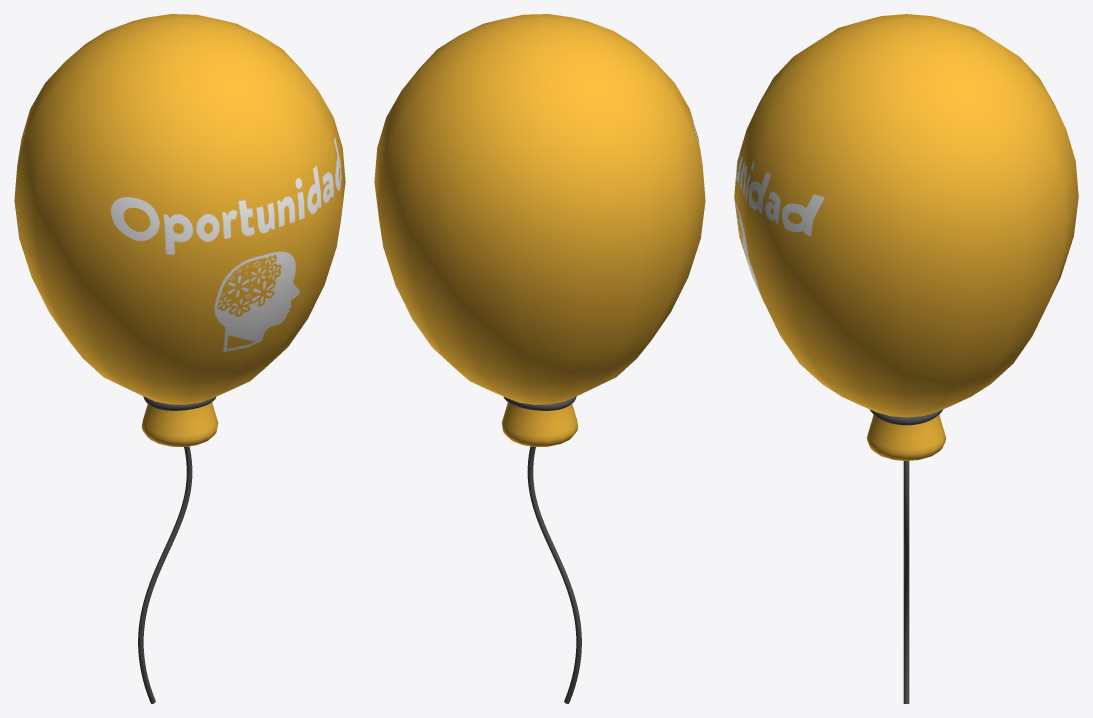
Rendered from GloboOportunidad.glb.
3 views of the same model, side by side, from view 1: azimuth 30°, elevation 25°; view 2: azimuth 150°, elevation 25°; view 3: azimuth 270°, elevation 25° (orthographic). The views are drawn at different scales.
Parts seen in each view (by area): view 1: Globo, Nudo, Cuerda; view 2: Globo, Nudo, Cuerda; view 3: Globo, Nudo, Cuerda.
Part boxes in pixels (<box>): Globo: <box>14,14,345,404</box>; Nudo: <box>141,402,218,446</box>; Cuerda: <box>138,396,216,703</box>; Globo: <box>374,14,705,404</box>; Nudo: <box>501,402,578,446</box>; Cuerda: <box>503,396,581,703</box>; Globo: <box>734,14,1078,417</box>; Nudo: <box>866,414,946,460</box>; Cuerda: <box>869,409,943,703</box>.
Size of the model in its own units: 2.24 by 4.93 by 2.24.
Materials: 3 (1 with a texture image).
